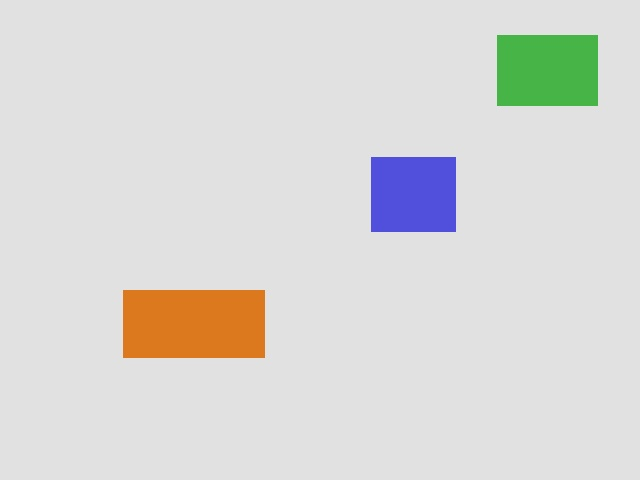square: (123, 290, 264, 357)
tall_box: (371, 157, 455, 231)
wide_box: (497, 35, 597, 105)
